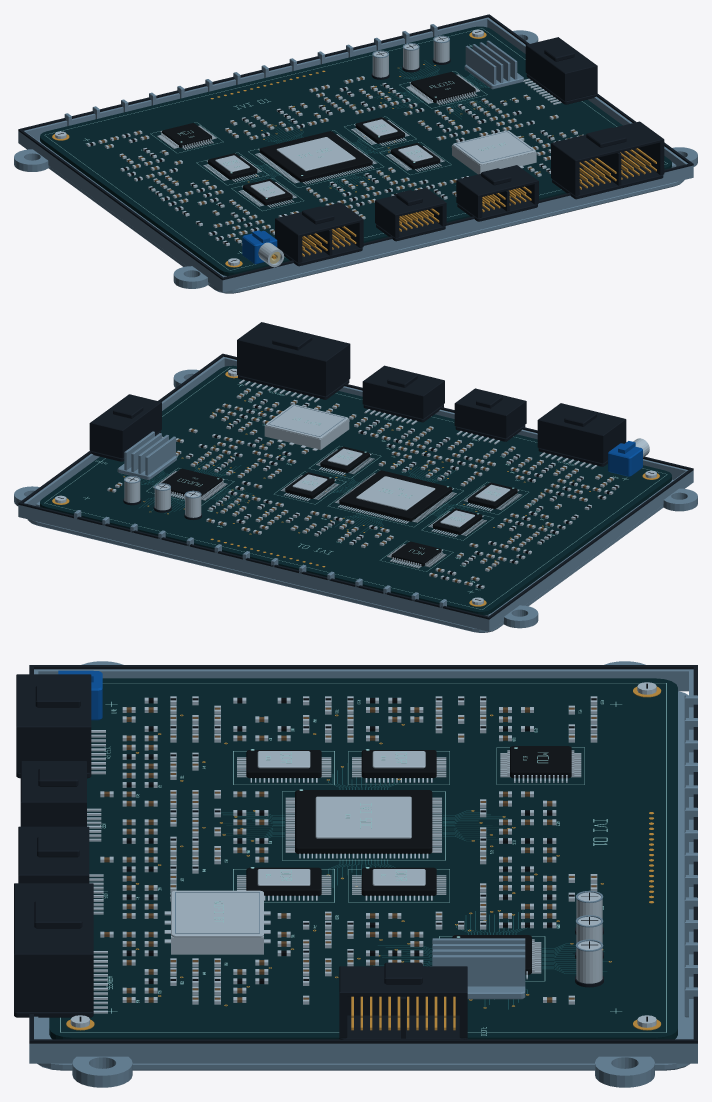
The model's file is IVI.obj.
3 views of the same model, one above another, from view 1: azimuth 30°, elevation 25°; view 2: azimuth 150°, elevation 25°; view 3: azimuth 270°, elevation 25° (orthographic). The views are drawn at different scales.
Visible parts, largest first — view 1: pcb_substrate_0001, chassis_rim_0001, chassis_backplate_0001, chassis_rim_0002, chassis_rim_0003, chip_substrate_0001, connector_top_0004, shield_can_lid_0001, chip_heatspreader_0001, chassis_seal_0002, connector_back_0005, connector_base_0004 (+31 smaller); view 2: pcb_substrate_0001, chassis_rim_0002, connector_back_0004, chassis_backplate_0001, chassis_rim_0003, chip_substrate_0001, connector_back_0001, connector_top_0004, shield_can_lid_0001, connector_back_0003, chassis_seal_0002, chip_heatspreader_0001 (+27 smaller); view 3: pcb_substrate_0001, chassis_rim_0004, chassis_backplate_0001, chassis_rim_0003, chip_substrate_0001, connector_side_0008, shield_can_lid_0001, connector_top_0004, chip_heatspreader_0001, chassis_seal_0003, connector_top_0005, chassis_seal_0004 (+31 smaller).
Boxes of the visible parts, x1,y1,x2,y2 form: pcb_substrate_0001: [40, 26, 671, 276]; chassis_rim_0001: [220, 165, 693, 292]; chassis_backplate_0001: [38, 140, 684, 293]; chassis_rim_0002: [18, 17, 489, 144]; chassis_rim_0003: [21, 131, 223, 290]; chip_substrate_0001: [259, 131, 372, 182]; connector_top_0004: [551, 121, 663, 162]; shield_can_lid_0001: [453, 130, 535, 165]; chip_heatspreader_0001: [276, 137, 355, 171]; chassis_seal_0002: [18, 14, 490, 131]; connector_back_0005: [525, 44, 569, 101]; connector_base_0004: [552, 159, 663, 199]; pcb_substrate_0001: [40, 365, 671, 615]; chassis_rim_0002: [18, 505, 491, 631]; connector_back_0004: [237, 338, 328, 396]; chassis_backplate_0001: [27, 479, 673, 632]; chassis_rim_0003: [488, 471, 690, 629]; chip_substrate_0001: [339, 470, 452, 521]; connector_back_0001: [537, 418, 603, 463]; connector_top_0004: [237, 322, 350, 363]; shield_can_lid_0001: [265, 404, 348, 438]; connector_back_0003: [362, 380, 425, 418]; chassis_seal_0002: [18, 502, 490, 619]; chip_heatspreader_0001: [356, 476, 435, 510]; pcb_substrate_0001: [49, 678, 677, 1039]; chassis_rim_0004: [38, 1043, 688, 1063]; chassis_backplate_0001: [37, 691, 689, 1070]; chassis_rim_0003: [38, 669, 688, 691]; chip_substrate_0001: [295, 790, 432, 853]; connector_side_0008: [14, 951, 93, 1011]; shield_can_lid_0001: [171, 890, 263, 937]; connector_top_0004: [14, 883, 93, 957]; chip_heatspreader_0001: [315, 796, 411, 838]; chassis_seal_0003: [34, 665, 693, 669]; connector_top_0005: [339, 966, 467, 996]; chassis_seal_0004: [34, 1039, 693, 1043].
Size of the model in its own units: 222 by 24.6 by 154.
